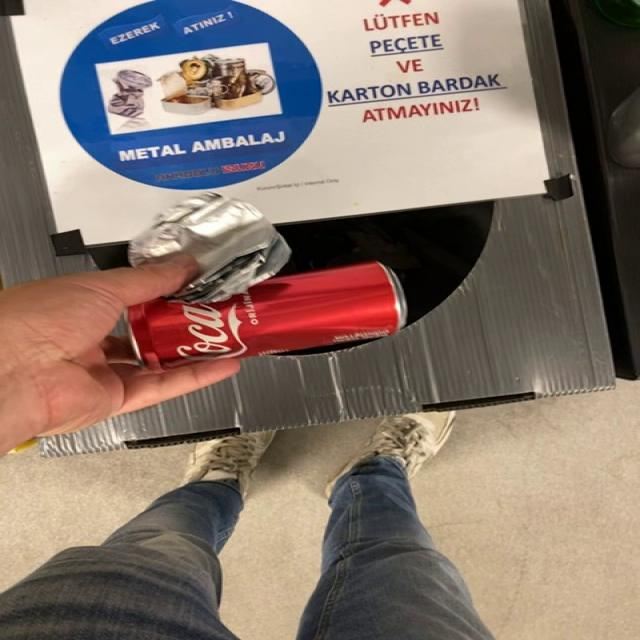bin: (1, 0, 613, 456)
metal: (128, 262, 407, 371)
